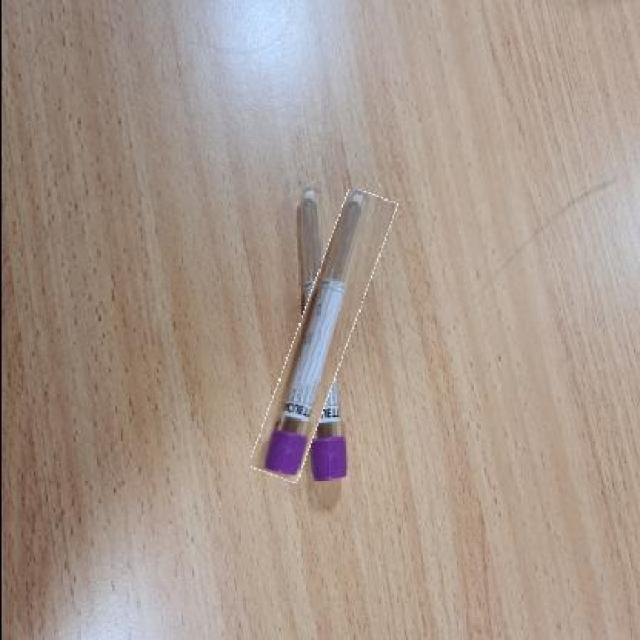Experimental-tube: (272, 187, 372, 482)
